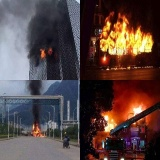fire: (100, 15, 153, 56), (32, 122, 46, 138), (99, 66, 153, 70), (103, 115, 114, 132), (133, 105, 142, 124), (40, 48, 46, 59), (34, 65, 39, 74), (47, 47, 52, 56), (54, 52, 58, 60)
